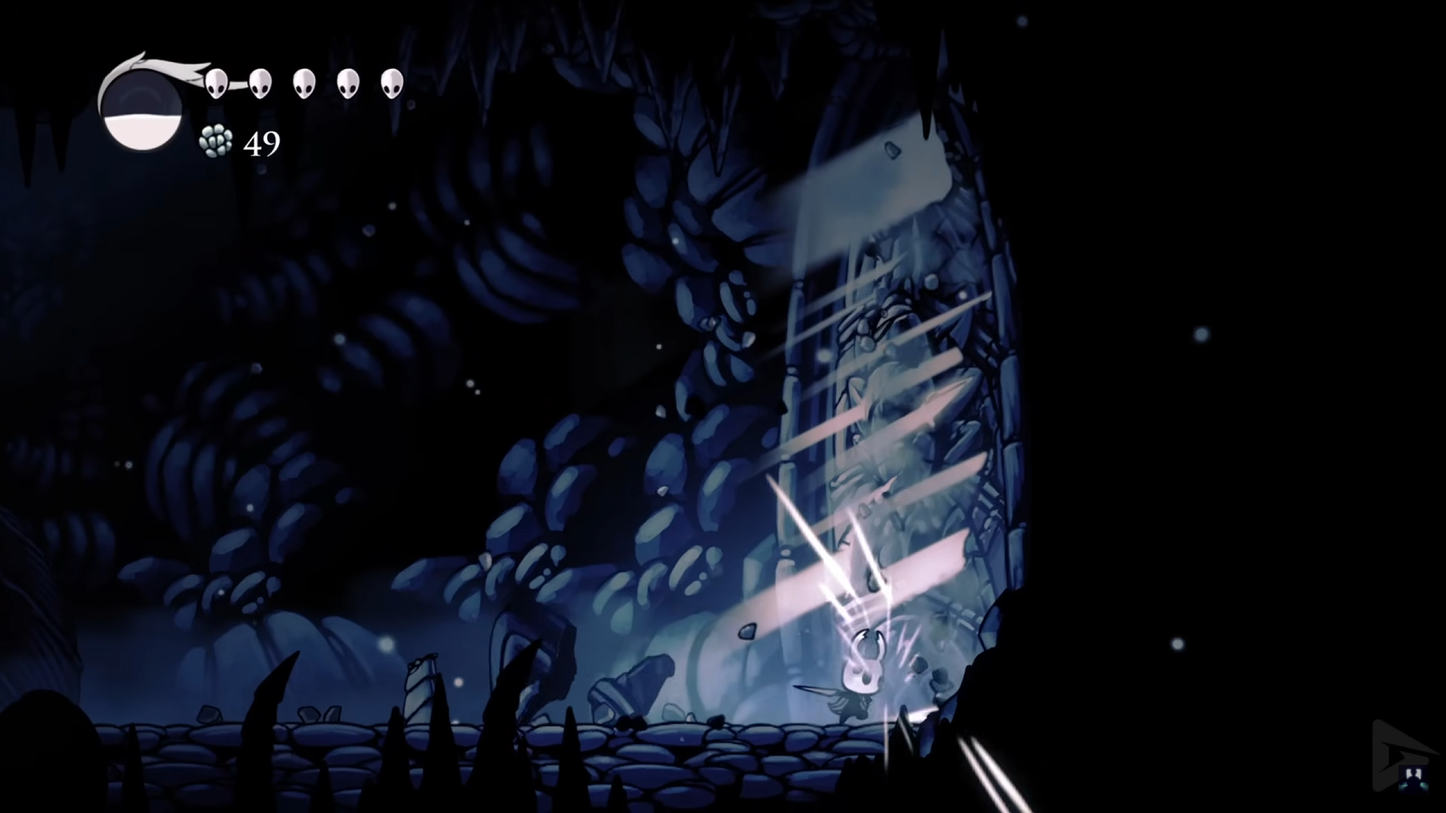HK: (825, 629, 894, 731)
